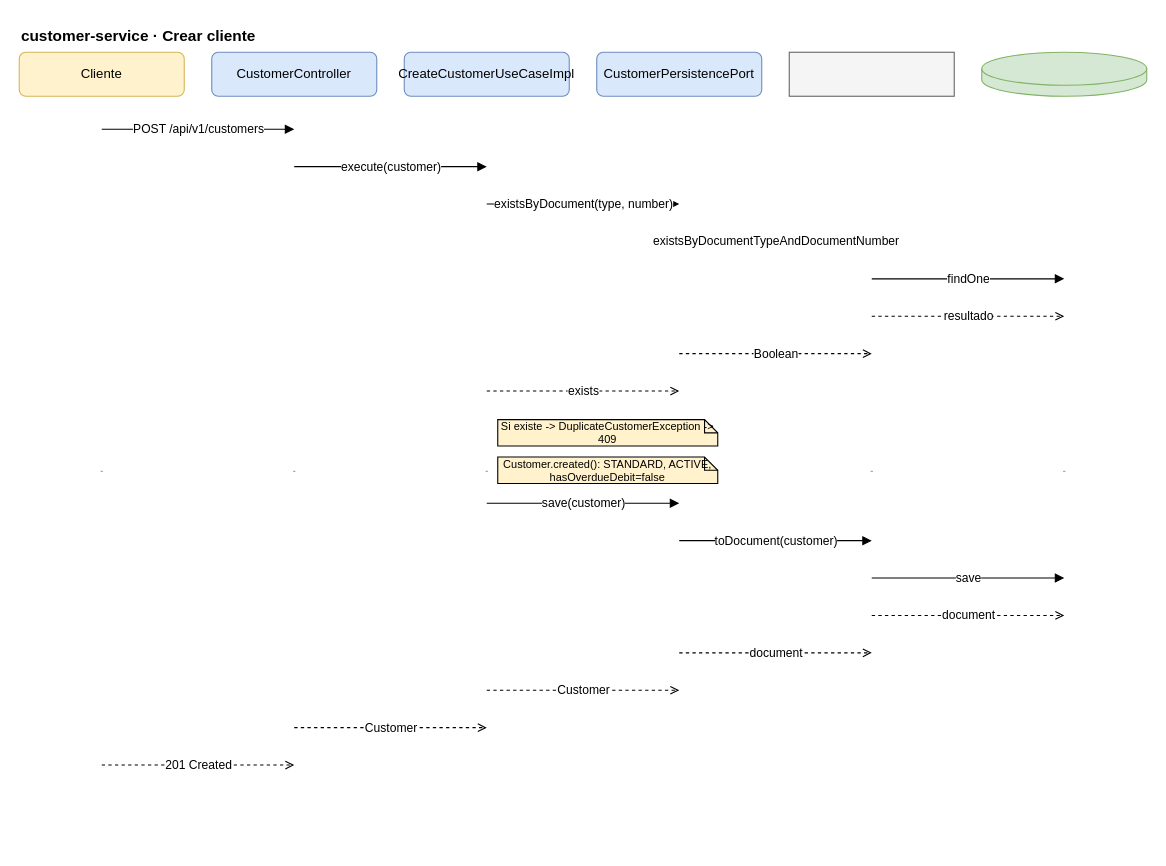
Image size: 1166x866. Some labels were removed from this diagram. Each missing label, with the centre of its shape:
"CustomerMongoAdapter" goes at [871,73].
"MongoDB" goes at [1064,73].
